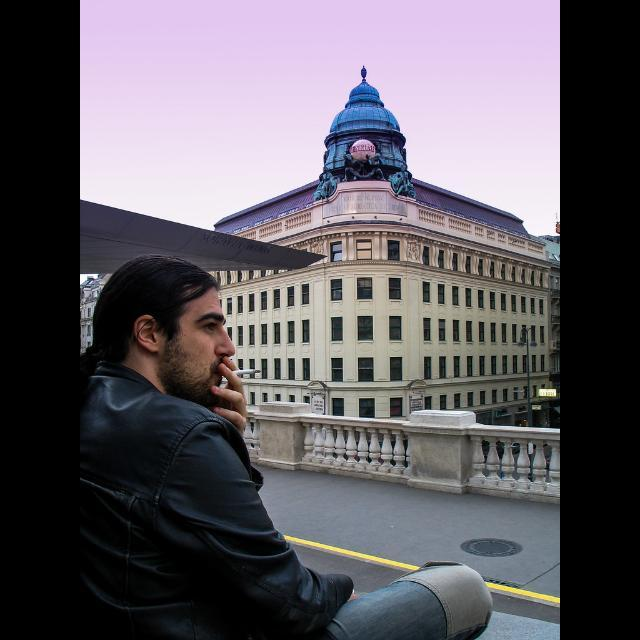rokok: (227, 367, 265, 377)
